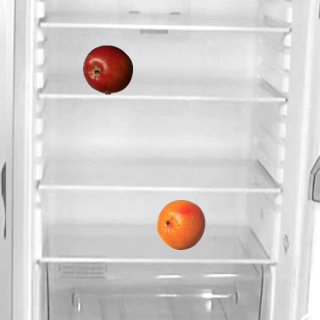Apple Braeburn: (82, 44, 132, 94)
Grapefruit Pink: (155, 199, 205, 249)
